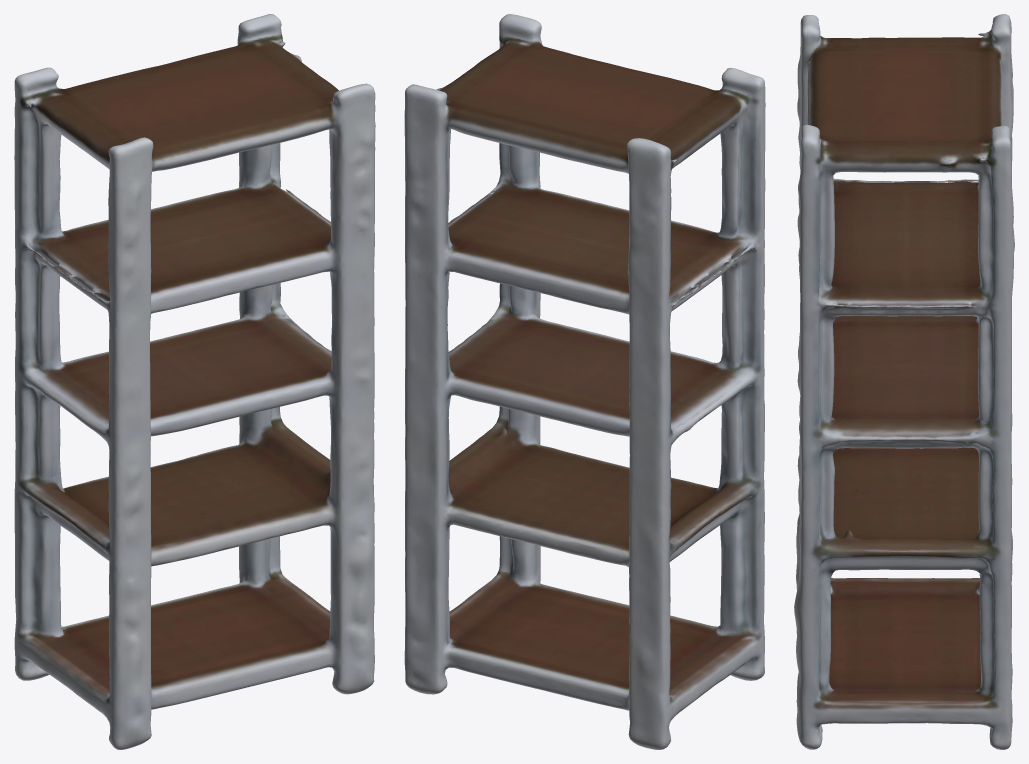
Rendered from 14c2d3ec66fc_bookshelf__3d_asset.fbx.
The picture shows the model from 3 angles, left to right: view 1: azimuth 30°, elevation 25°; view 2: azimuth 150°, elevation 25°; view 3: azimuth 270°, elevation 25°; orthographic projection.
Visible parts, largest first — view 1: high_poly; view 2: high_poly; view 3: high_poly.
Boxes of the visible parts, x1,y1,x2,y2 form: high_poly: [14, 14, 375, 749]; high_poly: [404, 14, 765, 749]; high_poly: [794, 14, 1014, 749].
Bounding box in the file's own units: 45.16 × 100 × 32.5.
